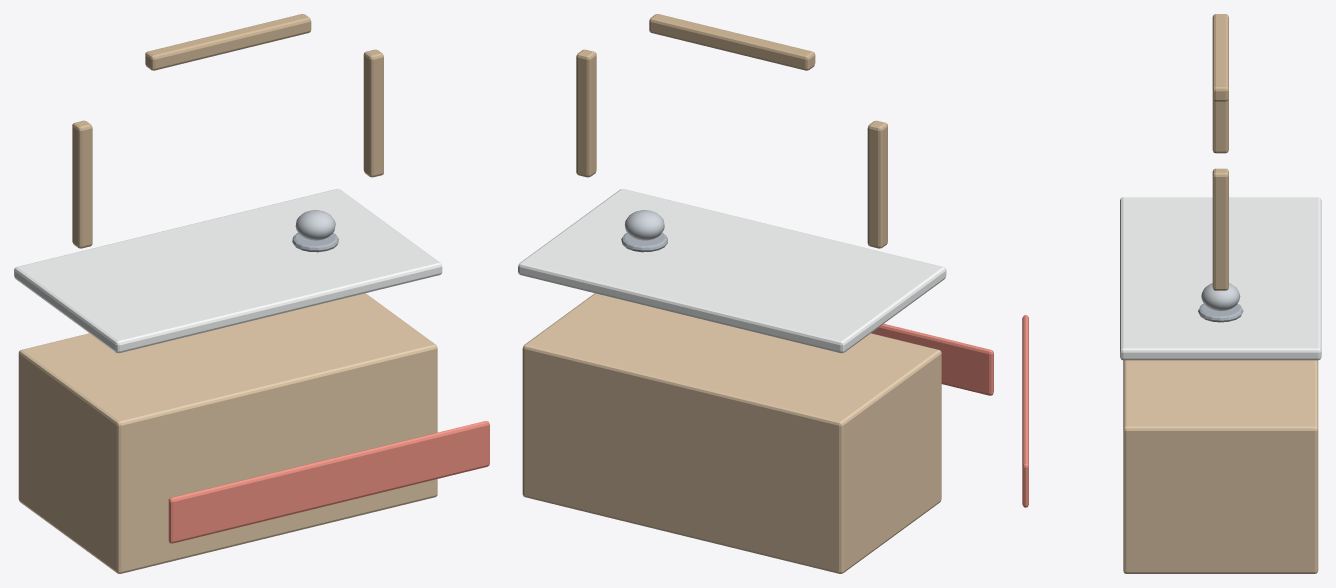
Rendered from SM_ServingCounter.glb.
3 renders of one model, left to right at view 1: azimuth 30°, elevation 25°; view 2: azimuth 150°, elevation 25°; view 3: azimuth 270°, elevation 25°, orthographic. The views are drawn at different scales.
Visible parts, largest first — view 1: SM_ServingCounter; view 2: SM_ServingCounter; view 3: SM_ServingCounter.
Part boxes in pixels (left/top/right/bottom): SM_ServingCounter: left=14, top=14, right=489, bottom=573; SM_ServingCounter: left=518, top=14, right=993, bottom=573; SM_ServingCounter: left=1022, top=14, right=1321, bottom=573.
Bounding box in the file's own units: 1.12 × 1.52 × 0.92.
